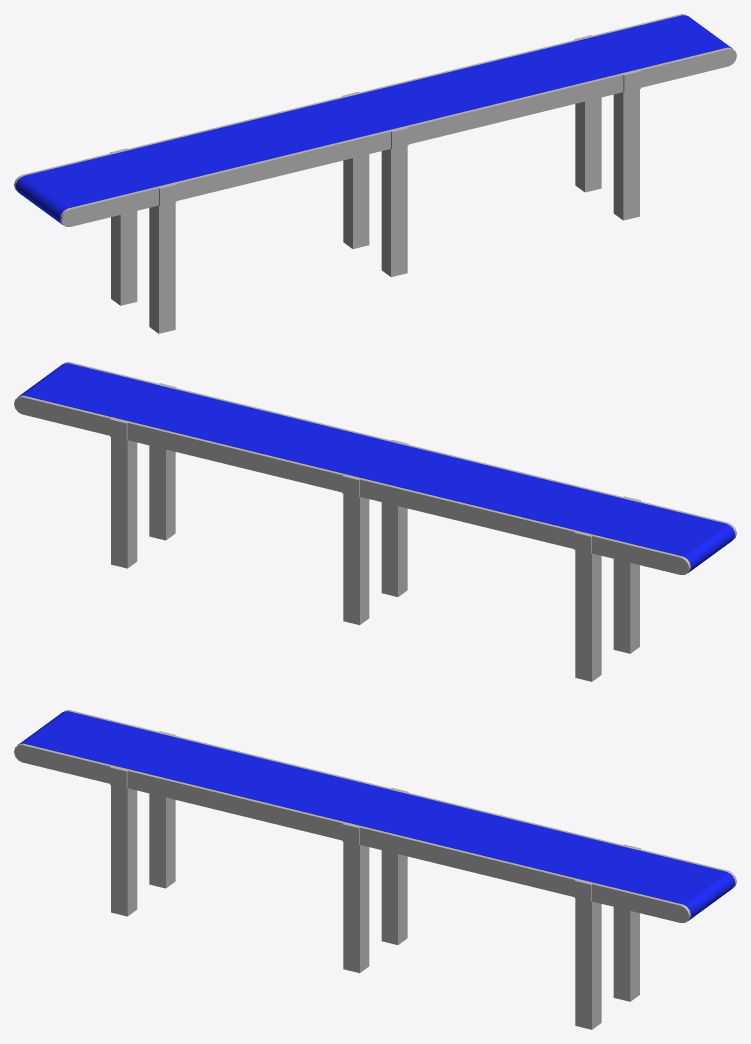
The model's file is Conveyor.glb.
The picture shows the model from 3 angles, top to bottom: view 1: azimuth 30°, elevation 25°; view 2: azimuth 150°, elevation 25°; view 3: azimuth 330°, elevation 25°; orthographic projection.
Visible parts, largest first — view 1: Solid1; view 2: Solid1; view 3: Solid1.
Part boxes in pixels (x1,y1,x2,y2): Solid1: [14, 14, 736, 333]; Solid1: [14, 362, 736, 681]; Solid1: [14, 710, 736, 1029].
Bounding box in the file's own units: 4.07 × 0.842 × 0.52.
